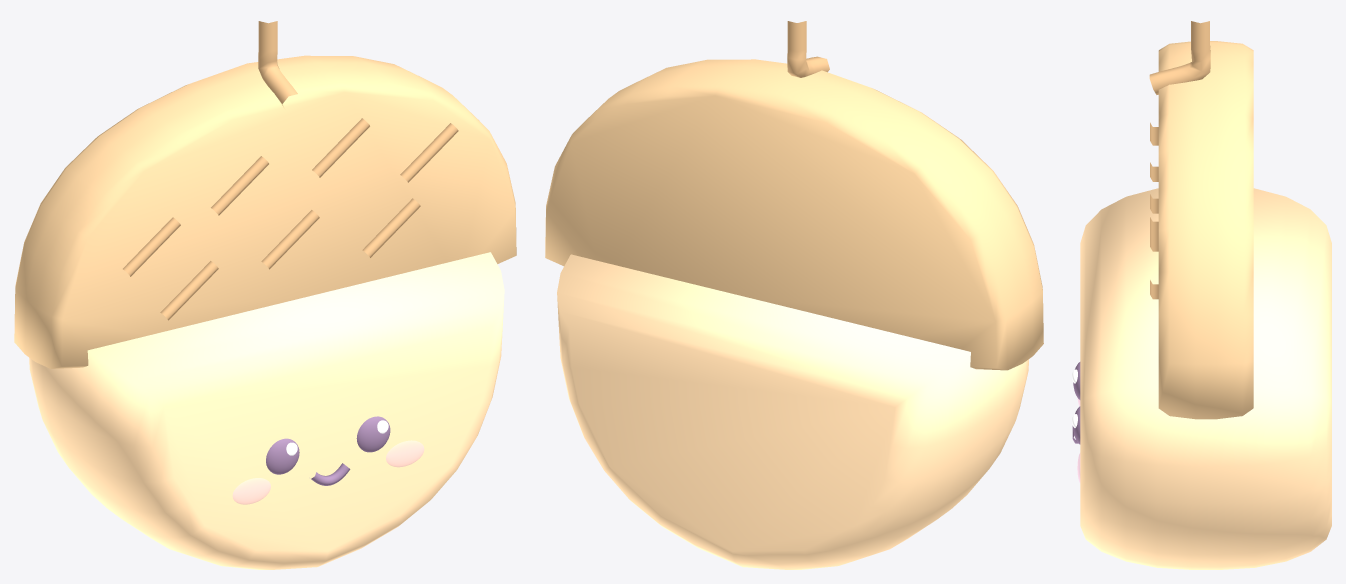
The model's file is squishy_acorn.glb.
3 renders of one model, left to right at view 1: azimuth 30°, elevation 25°; view 2: azimuth 150°, elevation 25°; view 3: azimuth 270°, elevation 25°, orthographic.
Visible parts, largest first — view 1: acorn; view 2: acorn; view 3: acorn.
Part boxes in pixels (x1=…): acorn: x1=14, y1=21, x2=516, y2=569; acorn: x1=545, y1=21, x2=1043, y2=569; acorn: x1=1072, y1=21, x2=1331, y2=569.
Bounding box in the file's own units: 0.9309 × 1 × 0.4436.
